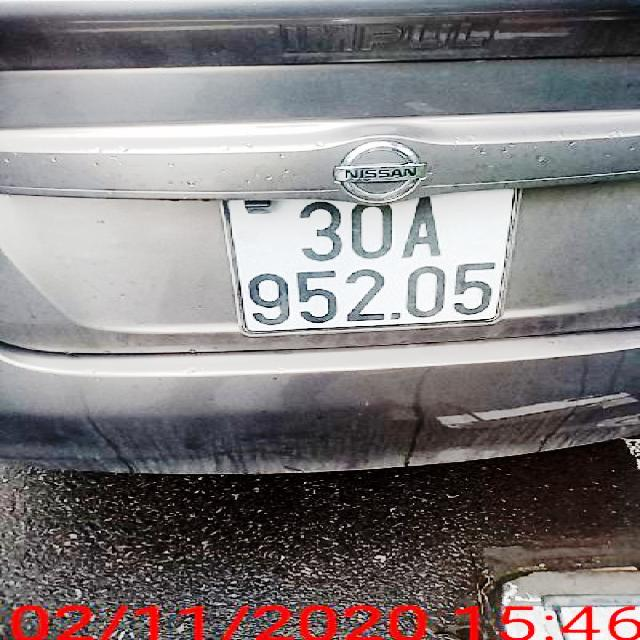license_plate: (228, 187, 521, 335)
